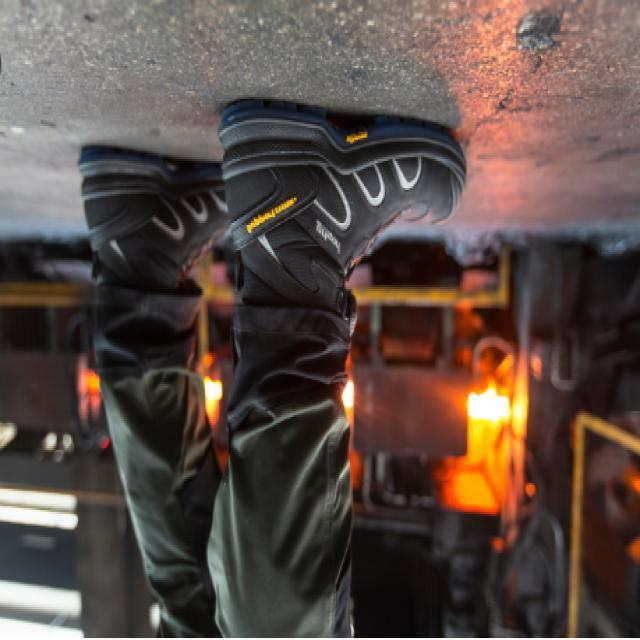shoes: (79, 96, 471, 348)
